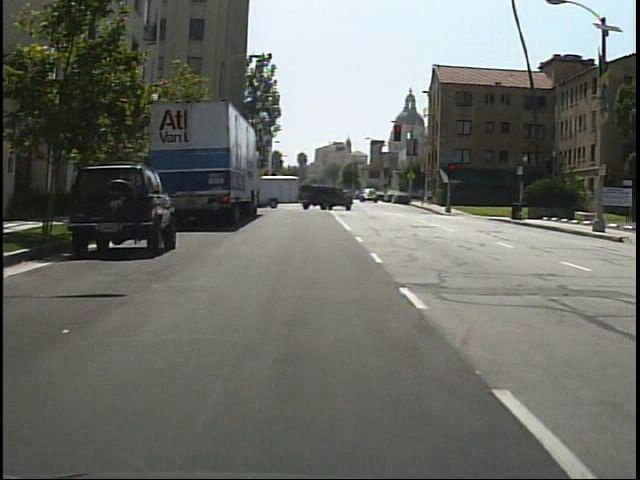person: (425, 184, 437, 210), (417, 188, 427, 209)
